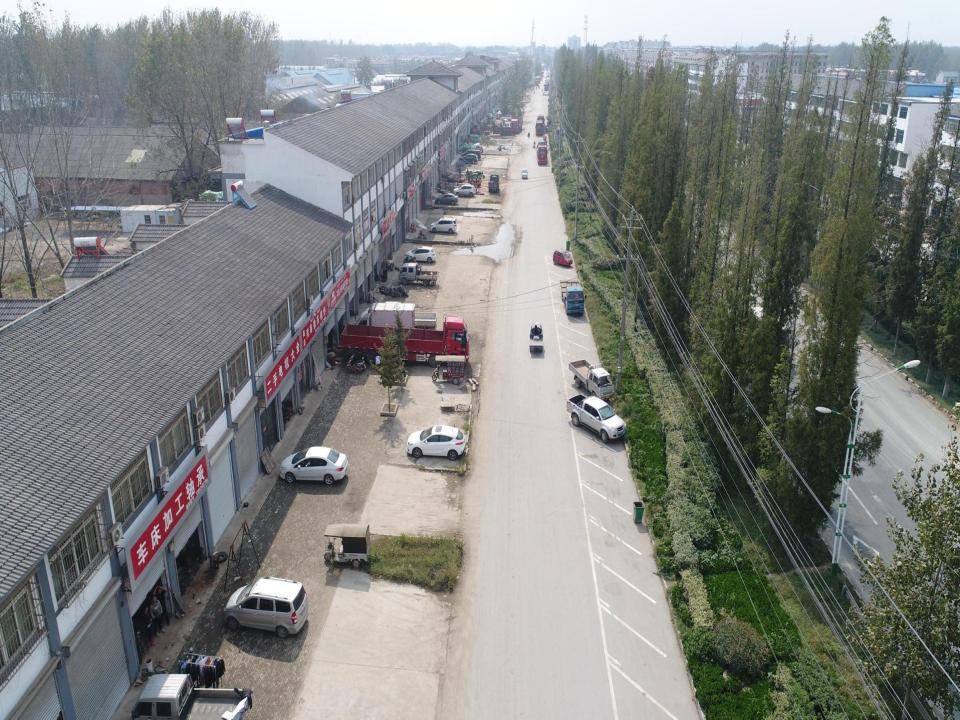car: (222, 573, 308, 642), (276, 448, 350, 488), (405, 422, 466, 464), (405, 246, 435, 264), (429, 218, 457, 234), (453, 184, 476, 197), (434, 193, 458, 205), (459, 154, 480, 165), (521, 168, 528, 182), (538, 139, 545, 149), (501, 114, 512, 120), (489, 113, 494, 119)
truck: (340, 311, 473, 366), (130, 670, 254, 720), (565, 391, 625, 447), (356, 305, 442, 343), (566, 354, 616, 404), (353, 303, 418, 338), (397, 262, 440, 289), (560, 276, 585, 318), (470, 121, 516, 136), (536, 143, 549, 166), (511, 114, 524, 134), (488, 172, 500, 193), (535, 118, 545, 136), (536, 114, 545, 130)
van: (460, 150, 482, 161), (502, 118, 510, 127), (496, 112, 500, 120)
